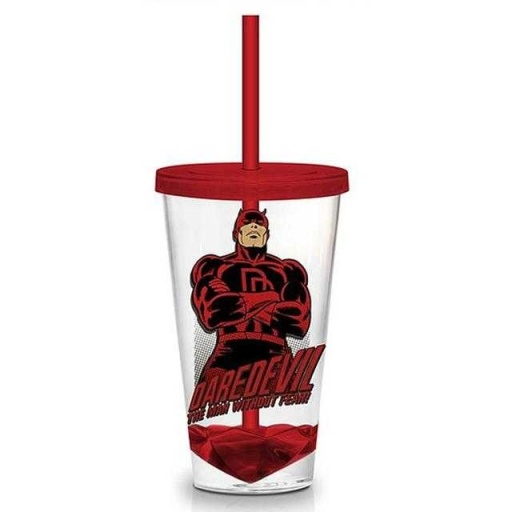cup: (154, 161, 349, 495)
